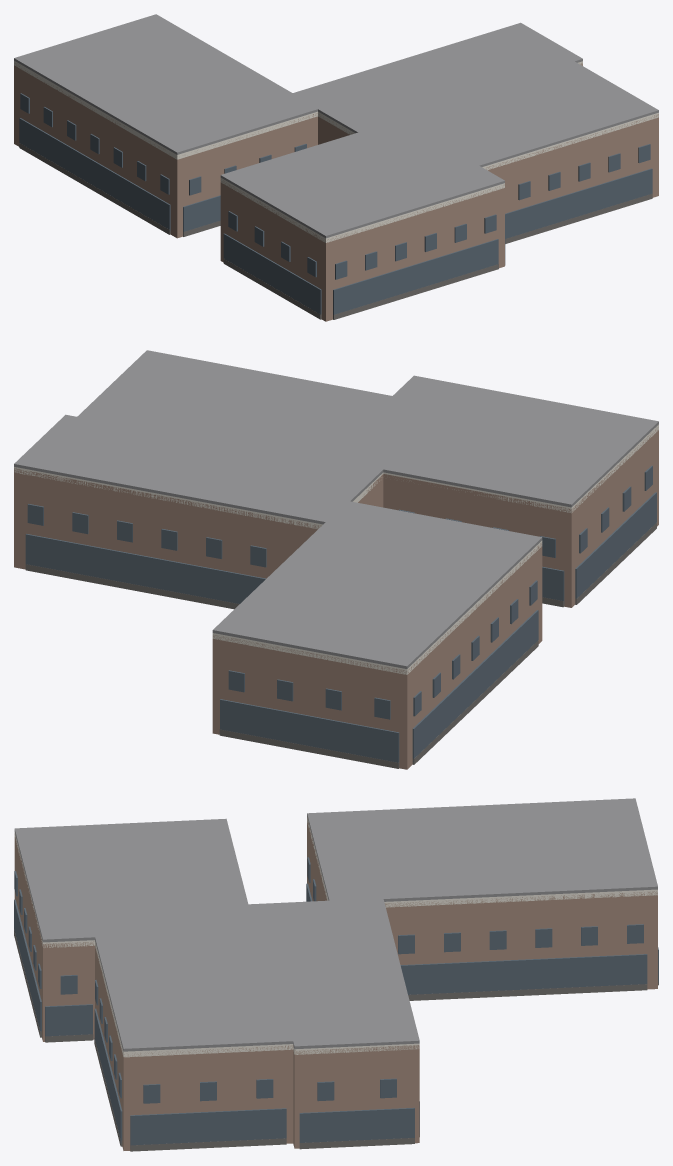
The model's file is s34_gis_248056_820832.glb.
3 renders of one model, top to bottom at view 1: azimuth 30°, elevation 25°; view 2: azimuth 150°, elevation 25°; view 3: azimuth 270°, elevation 25°, orthographic. The views are drawn at different scales.
Parts seen in each view (by area): view 1: roofcap, mass, cornice, store_5, store_0, store_7, store_4, store_1, bulk_5, bulk_0, bulk_7, bulk_4; view 2: roofcap, mass, store_11, store_13, cornice, store_0, store_4, bulk_11, bulk_13, bulk_0, store_3; view 3: roofcap, mass, store_12, store_8, cornice, store_10, bulk_12, store_6, store_7, bulk_8, store_5, bulk_10.
Boxes of the visible parts, <box> form: roofcap: <box>14,14,658,238</box>; mass: <box>14,63,658,321</box>; cornice: <box>14,60,658,242</box>; store_5: <box>333,239,498,317</box>; store_0: <box>19,118,170,230</box>; store_7: <box>505,168,652,238</box>; store_4: <box>223,233,321,314</box>; store_1: <box>183,195,220,231</box>; bulk_5: <box>333,264,498,319</box>; bulk_0: <box>19,143,170,234</box>; bulk_7: <box>505,193,652,243</box>; bulk_4: <box>223,259,321,319</box>; roofcap: <box>14,350,658,668</box>; mass: <box>14,429,658,769</box>; store_11: <box>25,534,265,603</box>; store_13: <box>220,699,399,765</box>; cornice: <box>14,424,658,674</box>; store_0: <box>412,610,538,761</box>; store_4: <box>575,492,656,598</box>; bulk_11: <box>25,564,239,609</box>; bulk_13: <box>219,729,399,768</box>; bulk_0: <box>412,640,538,764</box>; store_3: <box>542,566,564,603</box>; roofcap: <box>14,798,657,1051</box>; mass: <box>14,818,657,1150</box>; store_12: <box>400,954,647,994</box>; store_8: <box>130,1108,286,1148</box>; cornice: <box>14,816,657,1057</box>; store_10: <box>299,1107,414,1142</box>; bulk_12: <box>408,984,647,1000</box>; store_6: <box>45,1004,92,1036</box>; store_7: <box>94,1008,122,1143</box>; bulk_8: <box>130,1138,286,1151</box>; store_5: <box>14,899,41,1031</box>; bulk_10: <box>299,1138,414,1149</box>.
Bounding box in the file's own units: 43.94 × 8.35 × 47.71.
